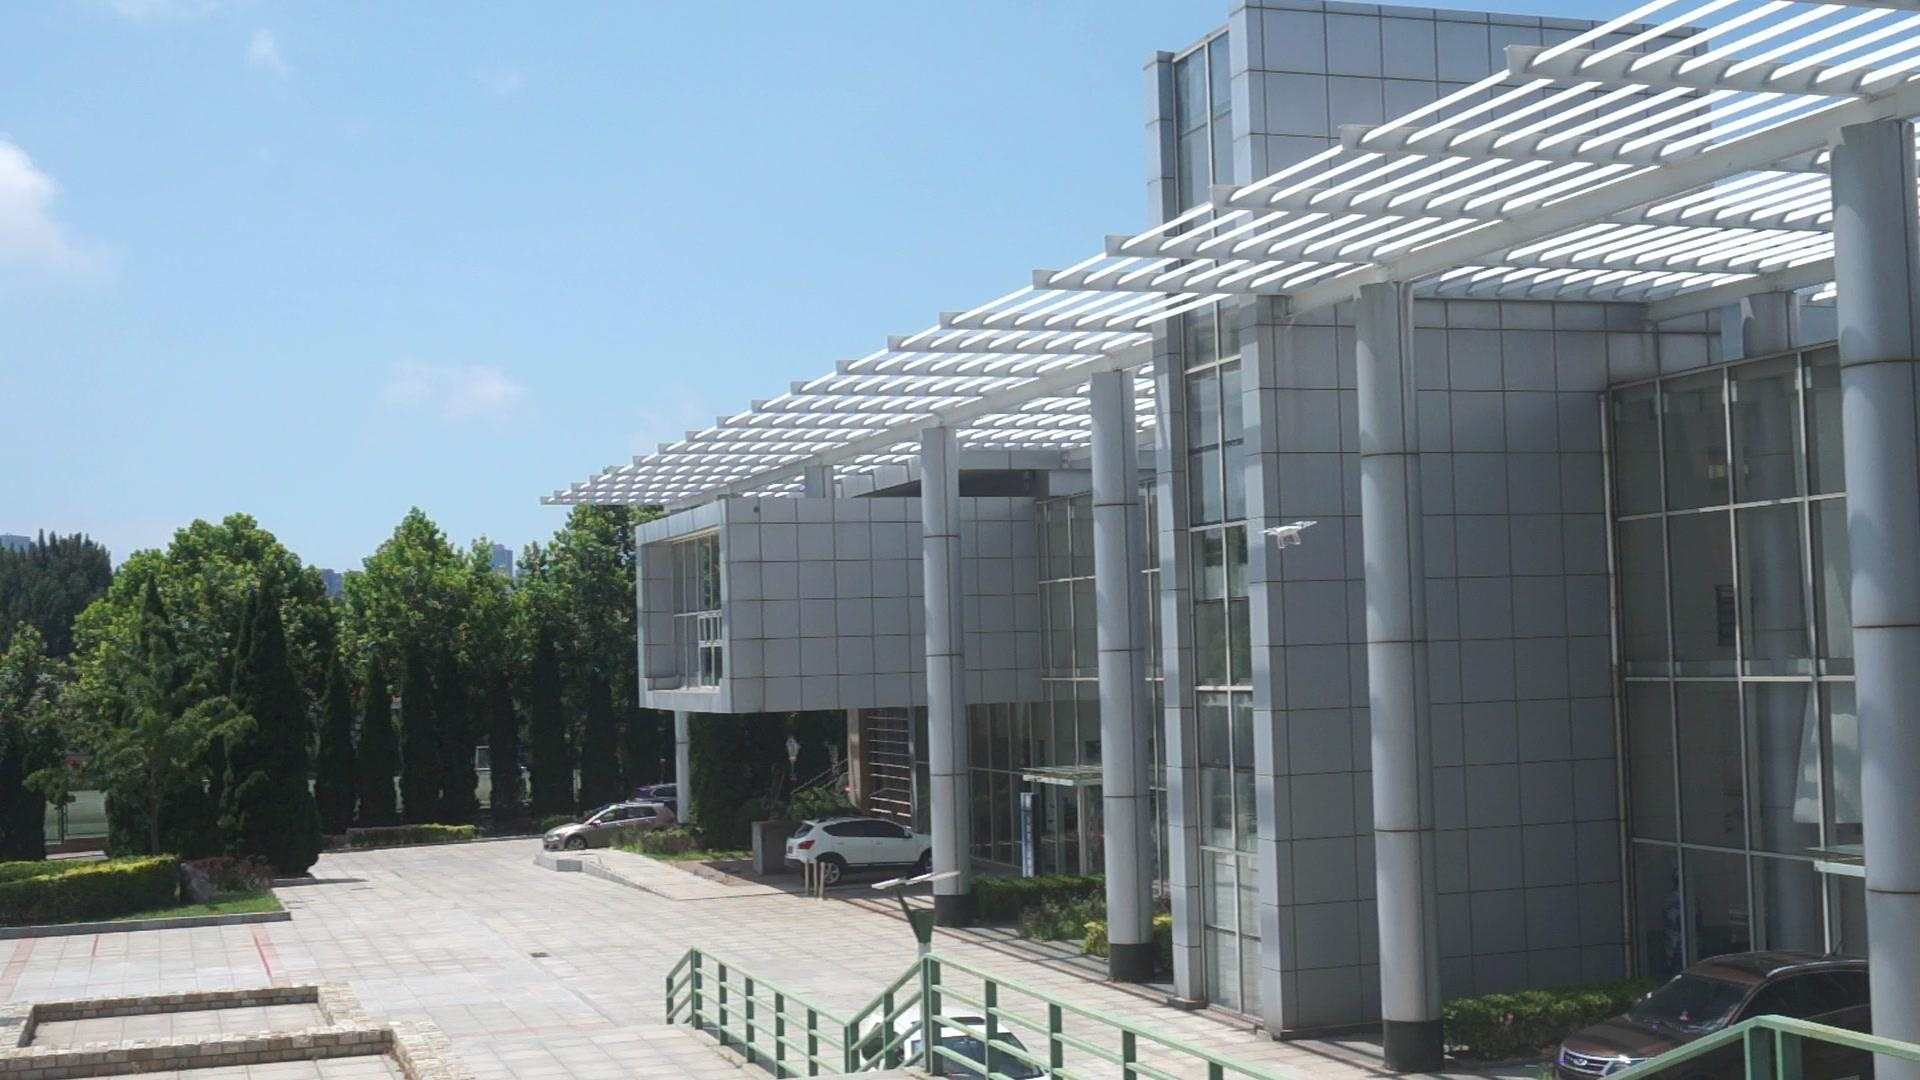UAV: (1259, 521, 1319, 550)
